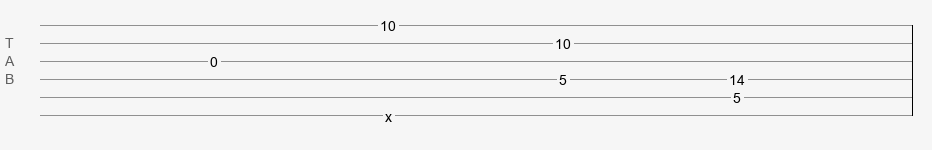0: (210, 54, 218, 64)
10: (380, 18, 396, 28), (555, 36, 571, 46)
14: (729, 72, 745, 82)
5: (559, 72, 567, 82), (733, 90, 741, 100)
x: (385, 109, 392, 117)
